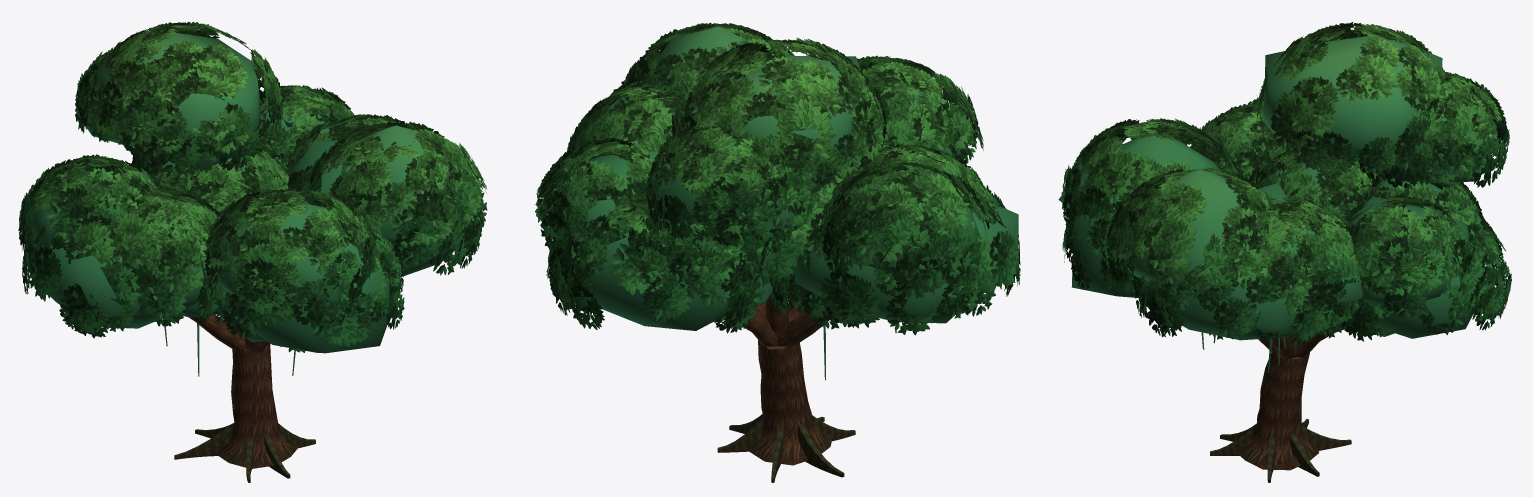
File: old_tree_5.gltf
3 views of the same model, side by side, from view 1: azimuth 30°, elevation 25°; view 2: azimuth 150°, elevation 25°; view 3: azimuth 270°, elevation 25° (orthographic). The views are drawn at different scales.
Parts seen in each view (by area): view 1: LeafCards, LeafMass, Bark; view 2: LeafCards, LeafMass, Bark; view 3: LeafCards, LeafMass, Bark.
Part boxes in pixels (left/top/right/bottom): LeafCards: left=18, top=21, right=487, bottom=352; LeafMass: left=24, top=32, right=465, bottom=376; Bark: left=174, top=314, right=315, bottom=482; LeafCards: left=535, top=22, right=1020, bottom=335; LeafMass: left=548, top=27, right=1018, bottom=380; Bark: left=717, top=291, right=855, bottom=482; LeafCards: left=1061, top=22, right=1511, bottom=347; LeafMass: left=1058, top=35, right=1491, bottom=372; Bark: left=1210, top=160, right=1351, bottom=482.
Size of what is drawn, in the model's own units: 15.37 by 14.39 by 14.75.
3 materials, 2 textured.
